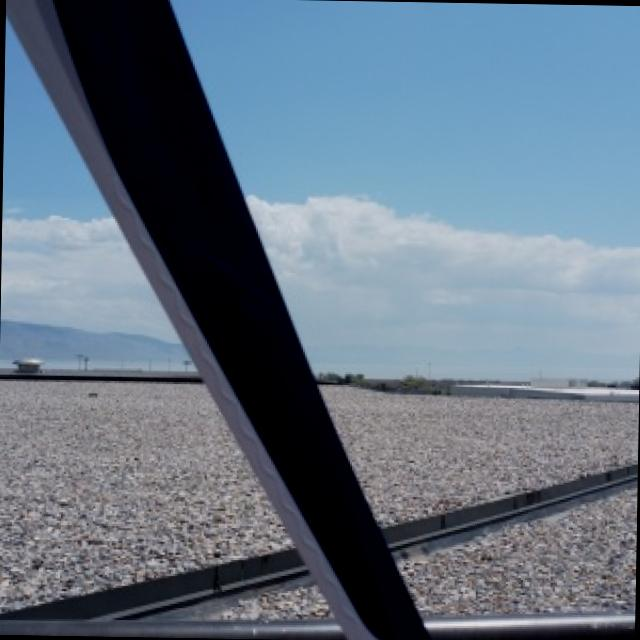healthy: (0, 0, 635, 640), (399, 483, 635, 610)
